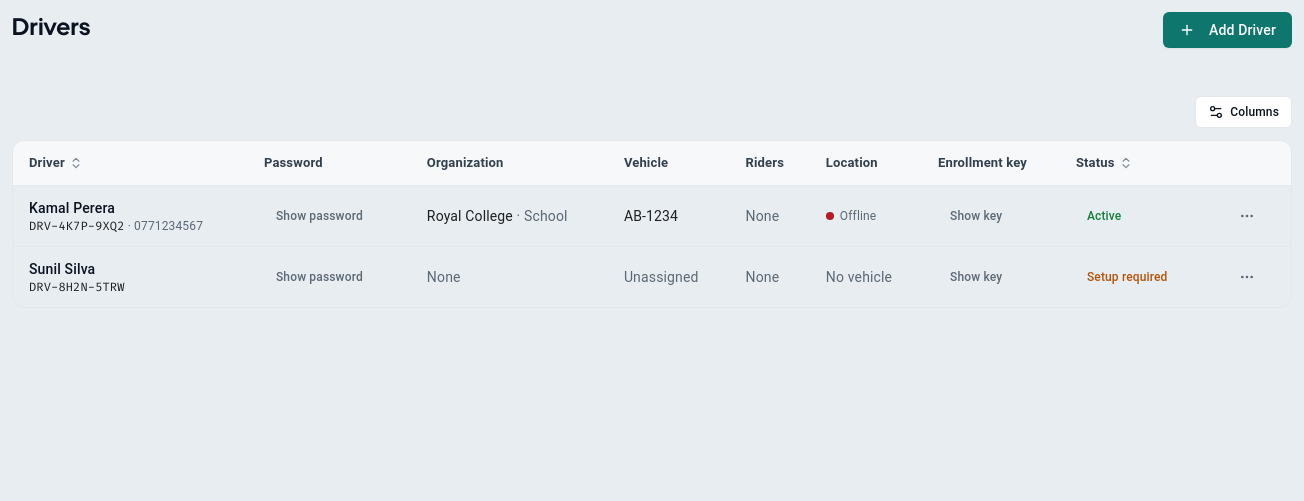
ManagerAccountsPage: enrollment key rotation › offers the undo once a revealed key reports a rotation is still recoverable
The width and height of the screenshot is (1304, 501).
Click the button "Show key" in the row of "Kamal Perera" at (976, 216), box top-left (938, 200), bottom-right (1014, 232)
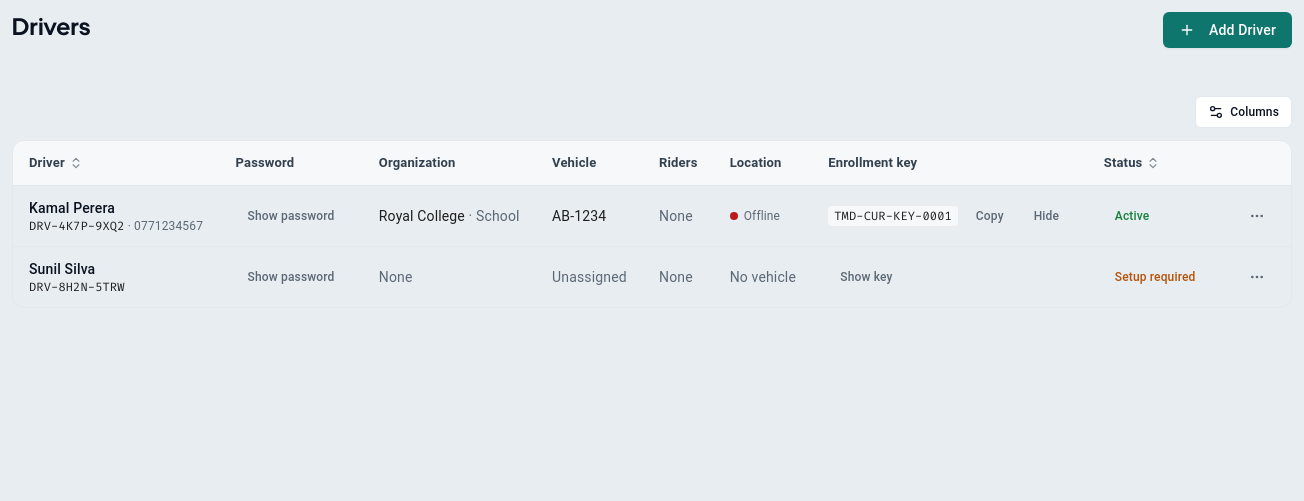
Expected: the text "TMD-CUR-KEY-0001" is shown, top-left (828, 206), bottom-right (958, 226)
Click the button named "Actions for Kamal Perera" at (1257, 216), box top-left (1239, 198), bottom-right (1275, 234)
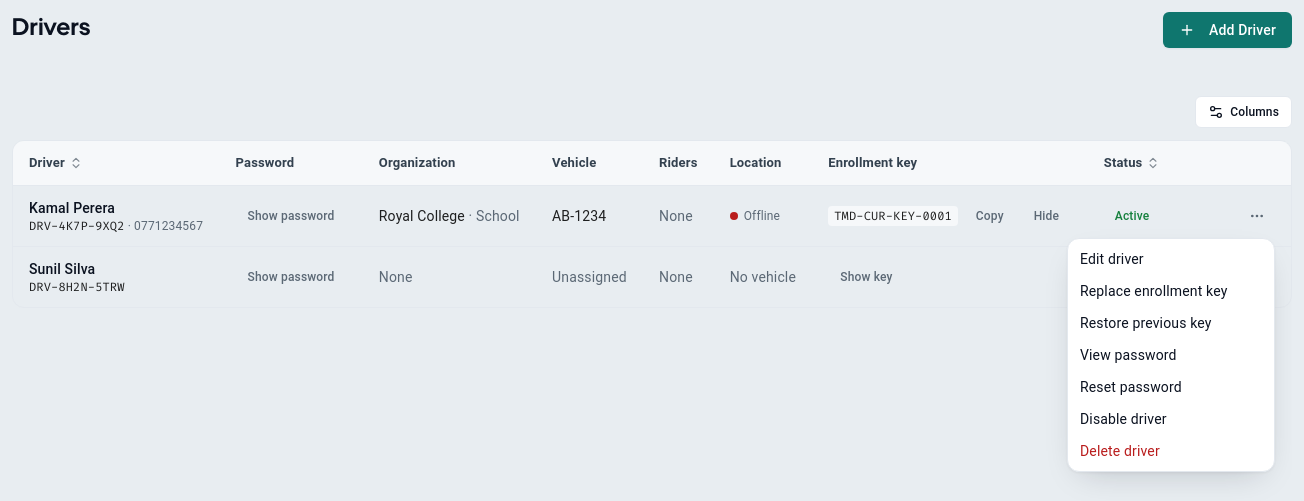
Expected: the menu item "Restore previous key" is shown, top-left (1080, 315), bottom-right (1212, 331)
